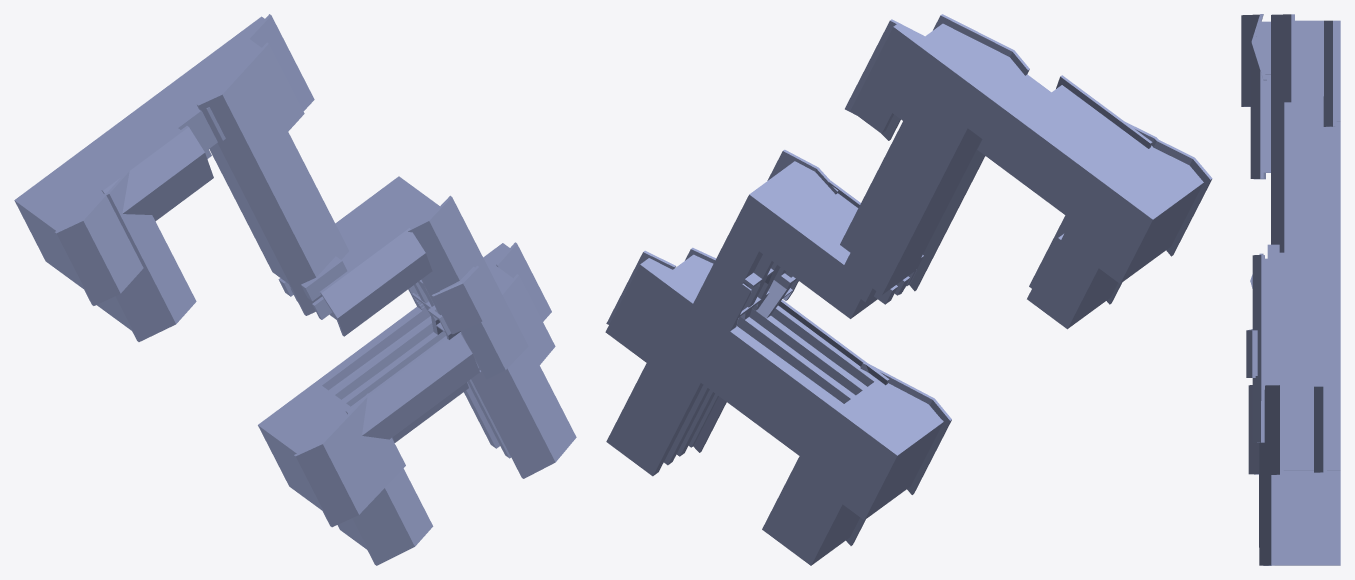
The model's file is raffles-hall1.glb.
The picture shows the model from 3 angles, left to right: view 1: azimuth 30°, elevation 25°; view 2: azimuth 150°, elevation 25°; view 3: azimuth 270°, elevation 25°; orthographic projection. The views are drawn at different scales.
Visible parts, largest first — view 1: Raffles Hall Blk 3&5; view 2: Raffles Hall Blk 3&5; view 3: Raffles Hall Blk 3&5.
Boxes of the visible parts, x1,y1,x2,y2 form: Raffles Hall Blk 3&5: (14, 14, 576, 565); Raffles Hall Blk 3&5: (605, 14, 1212, 565); Raffles Hall Blk 3&5: (1241, 14, 1340, 565).
Size of the model in its own units: 82.54 by 79.96 by 14.54.
